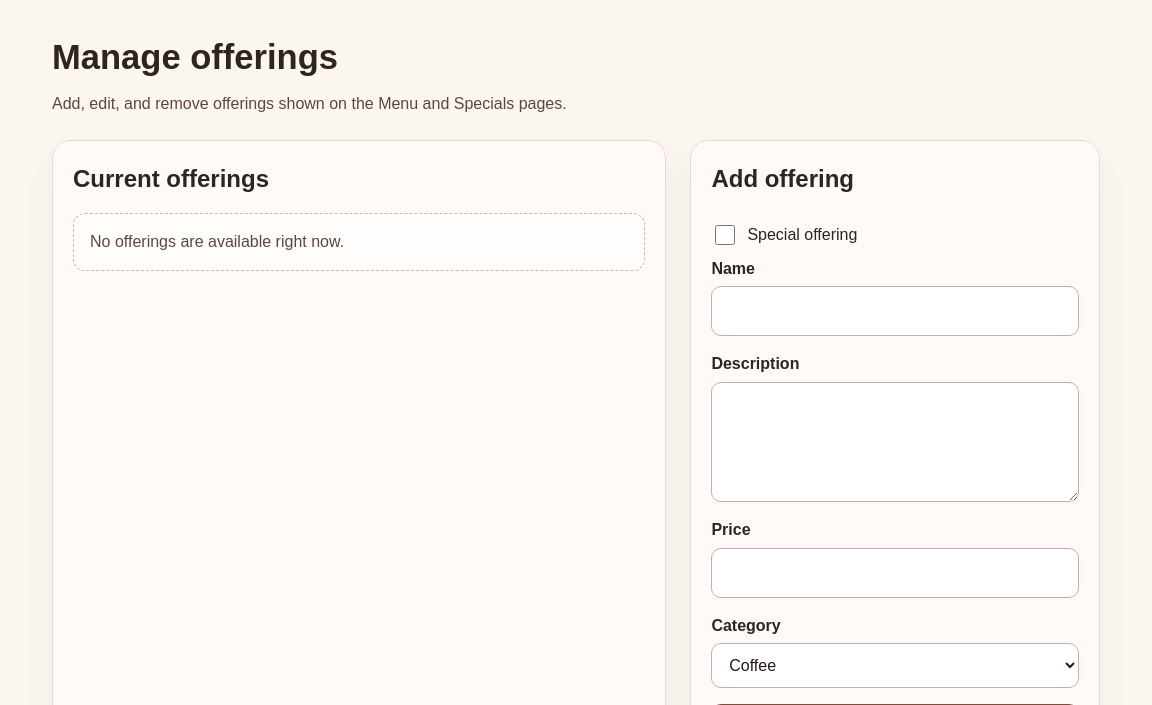
Test: keeps the form usable when a failed API returns malformed display fields
Expected: the text "No offerings are available right now." is shown, [73,213,645,271]
Type "New latte" into the field labelled "Name".
click(895, 311); type("New latte")  # box [711,286,1079,336]
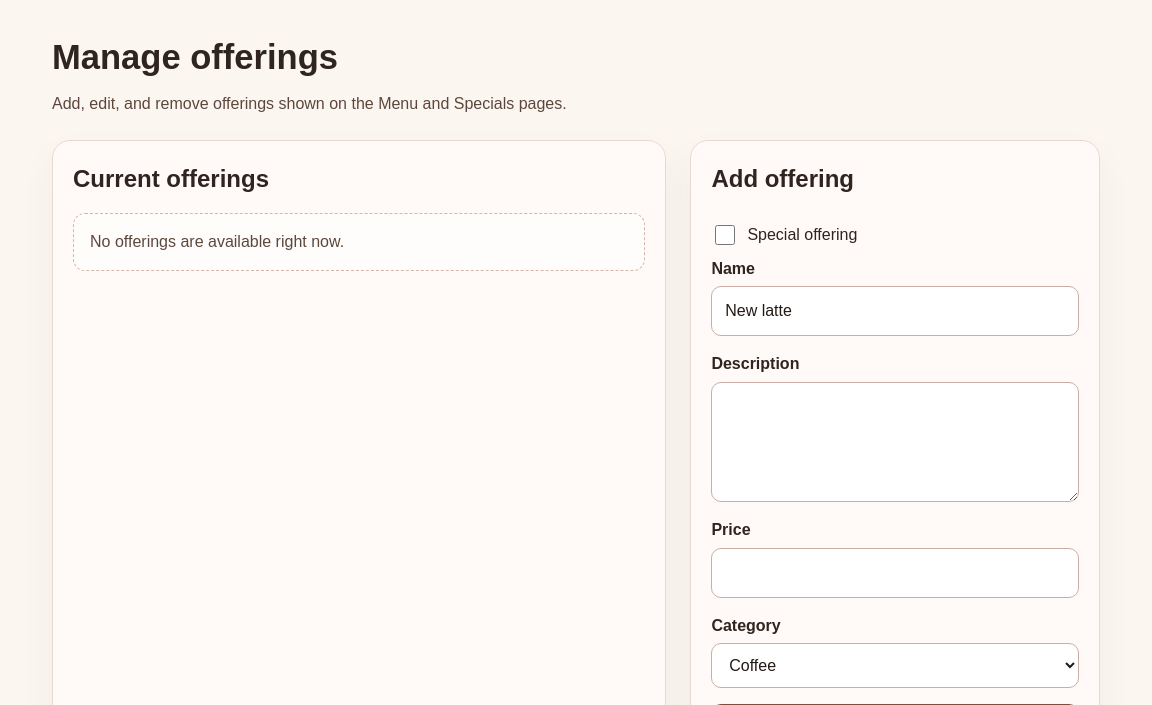
Type "Oat milk" into the text box labelled "Description".
click(895, 442); type("Oat milk")  # box [711,382,1079,502]
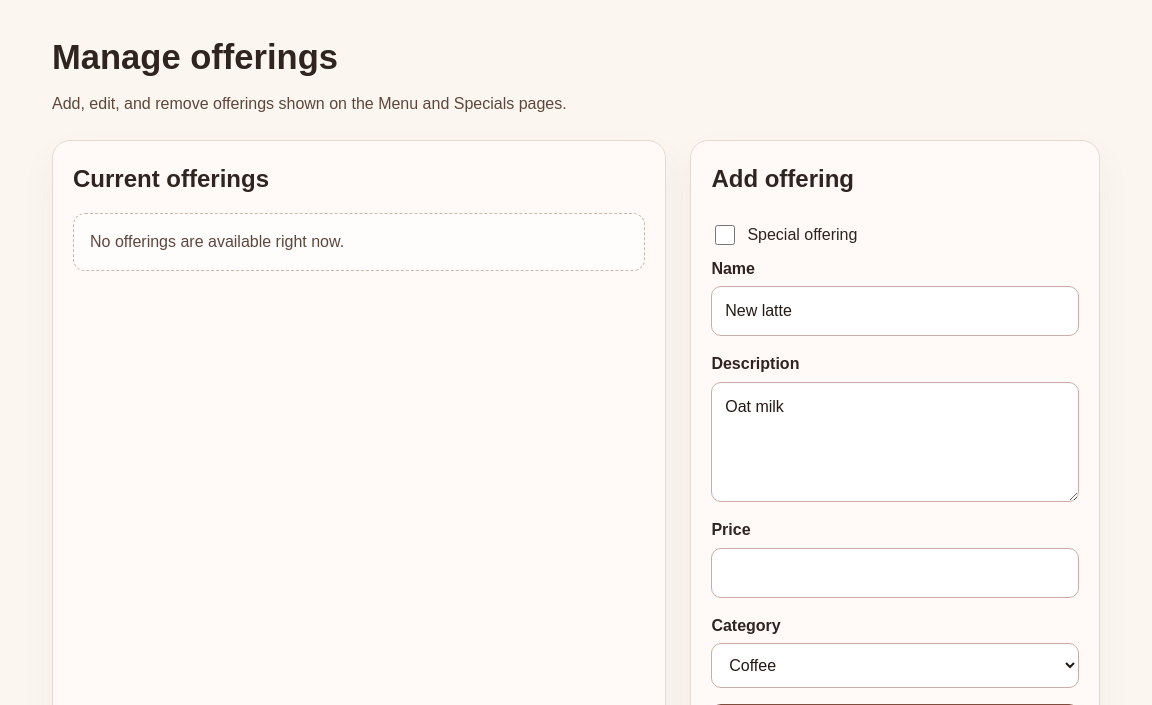
Type "4.25" into the number field labelled "Price".
click(895, 573); type("4.25")  # box [711,548,1079,598]
(page scrolled)
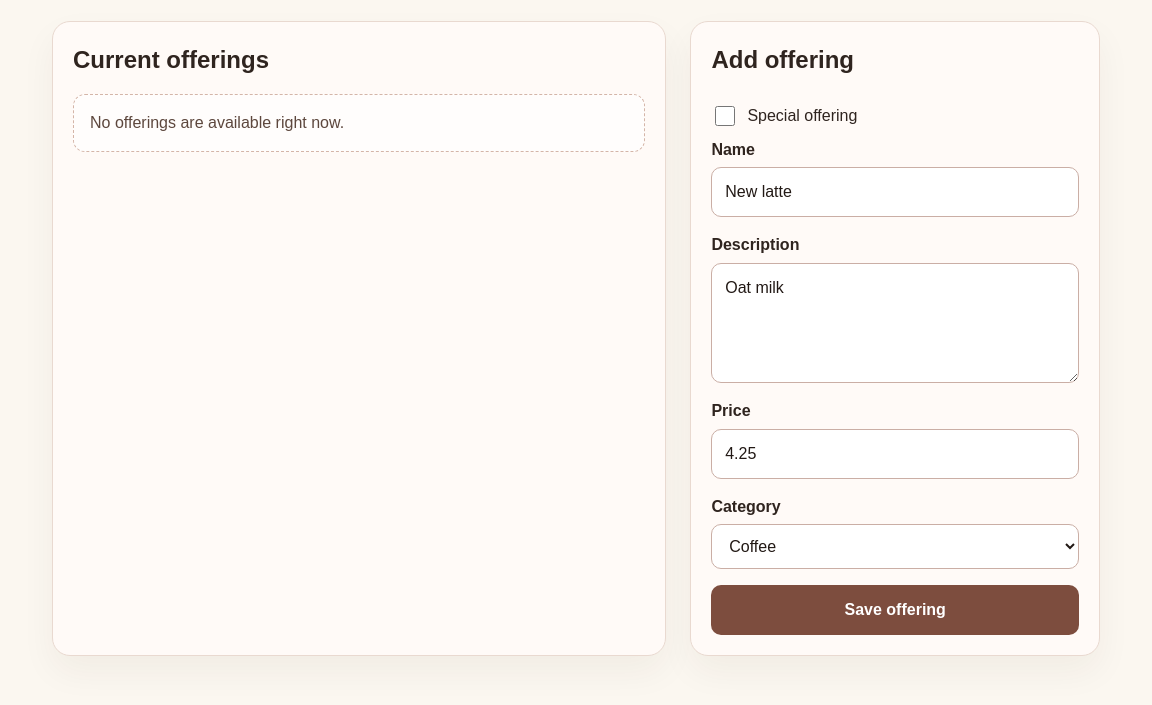
Click the button "Save offering".
click(895, 610)  # box [711,585,1079,635]
(page scrolled)
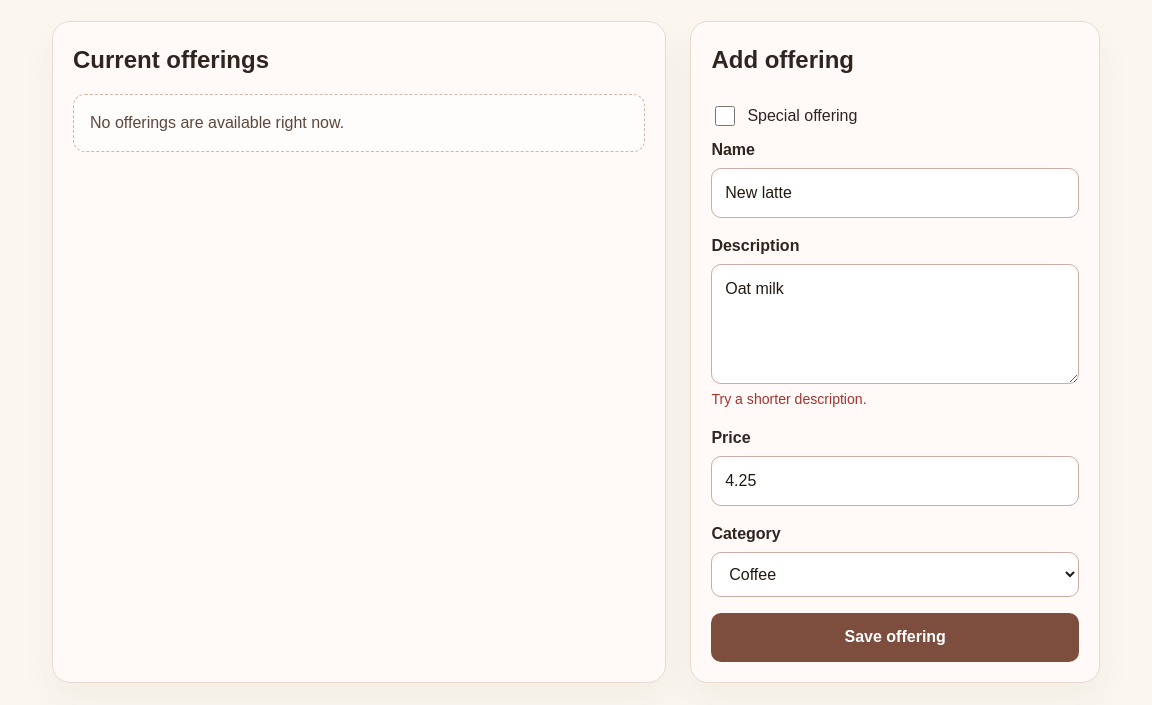
Expected: the text "Try a shorter description." is shown, [711,391,867,407]
